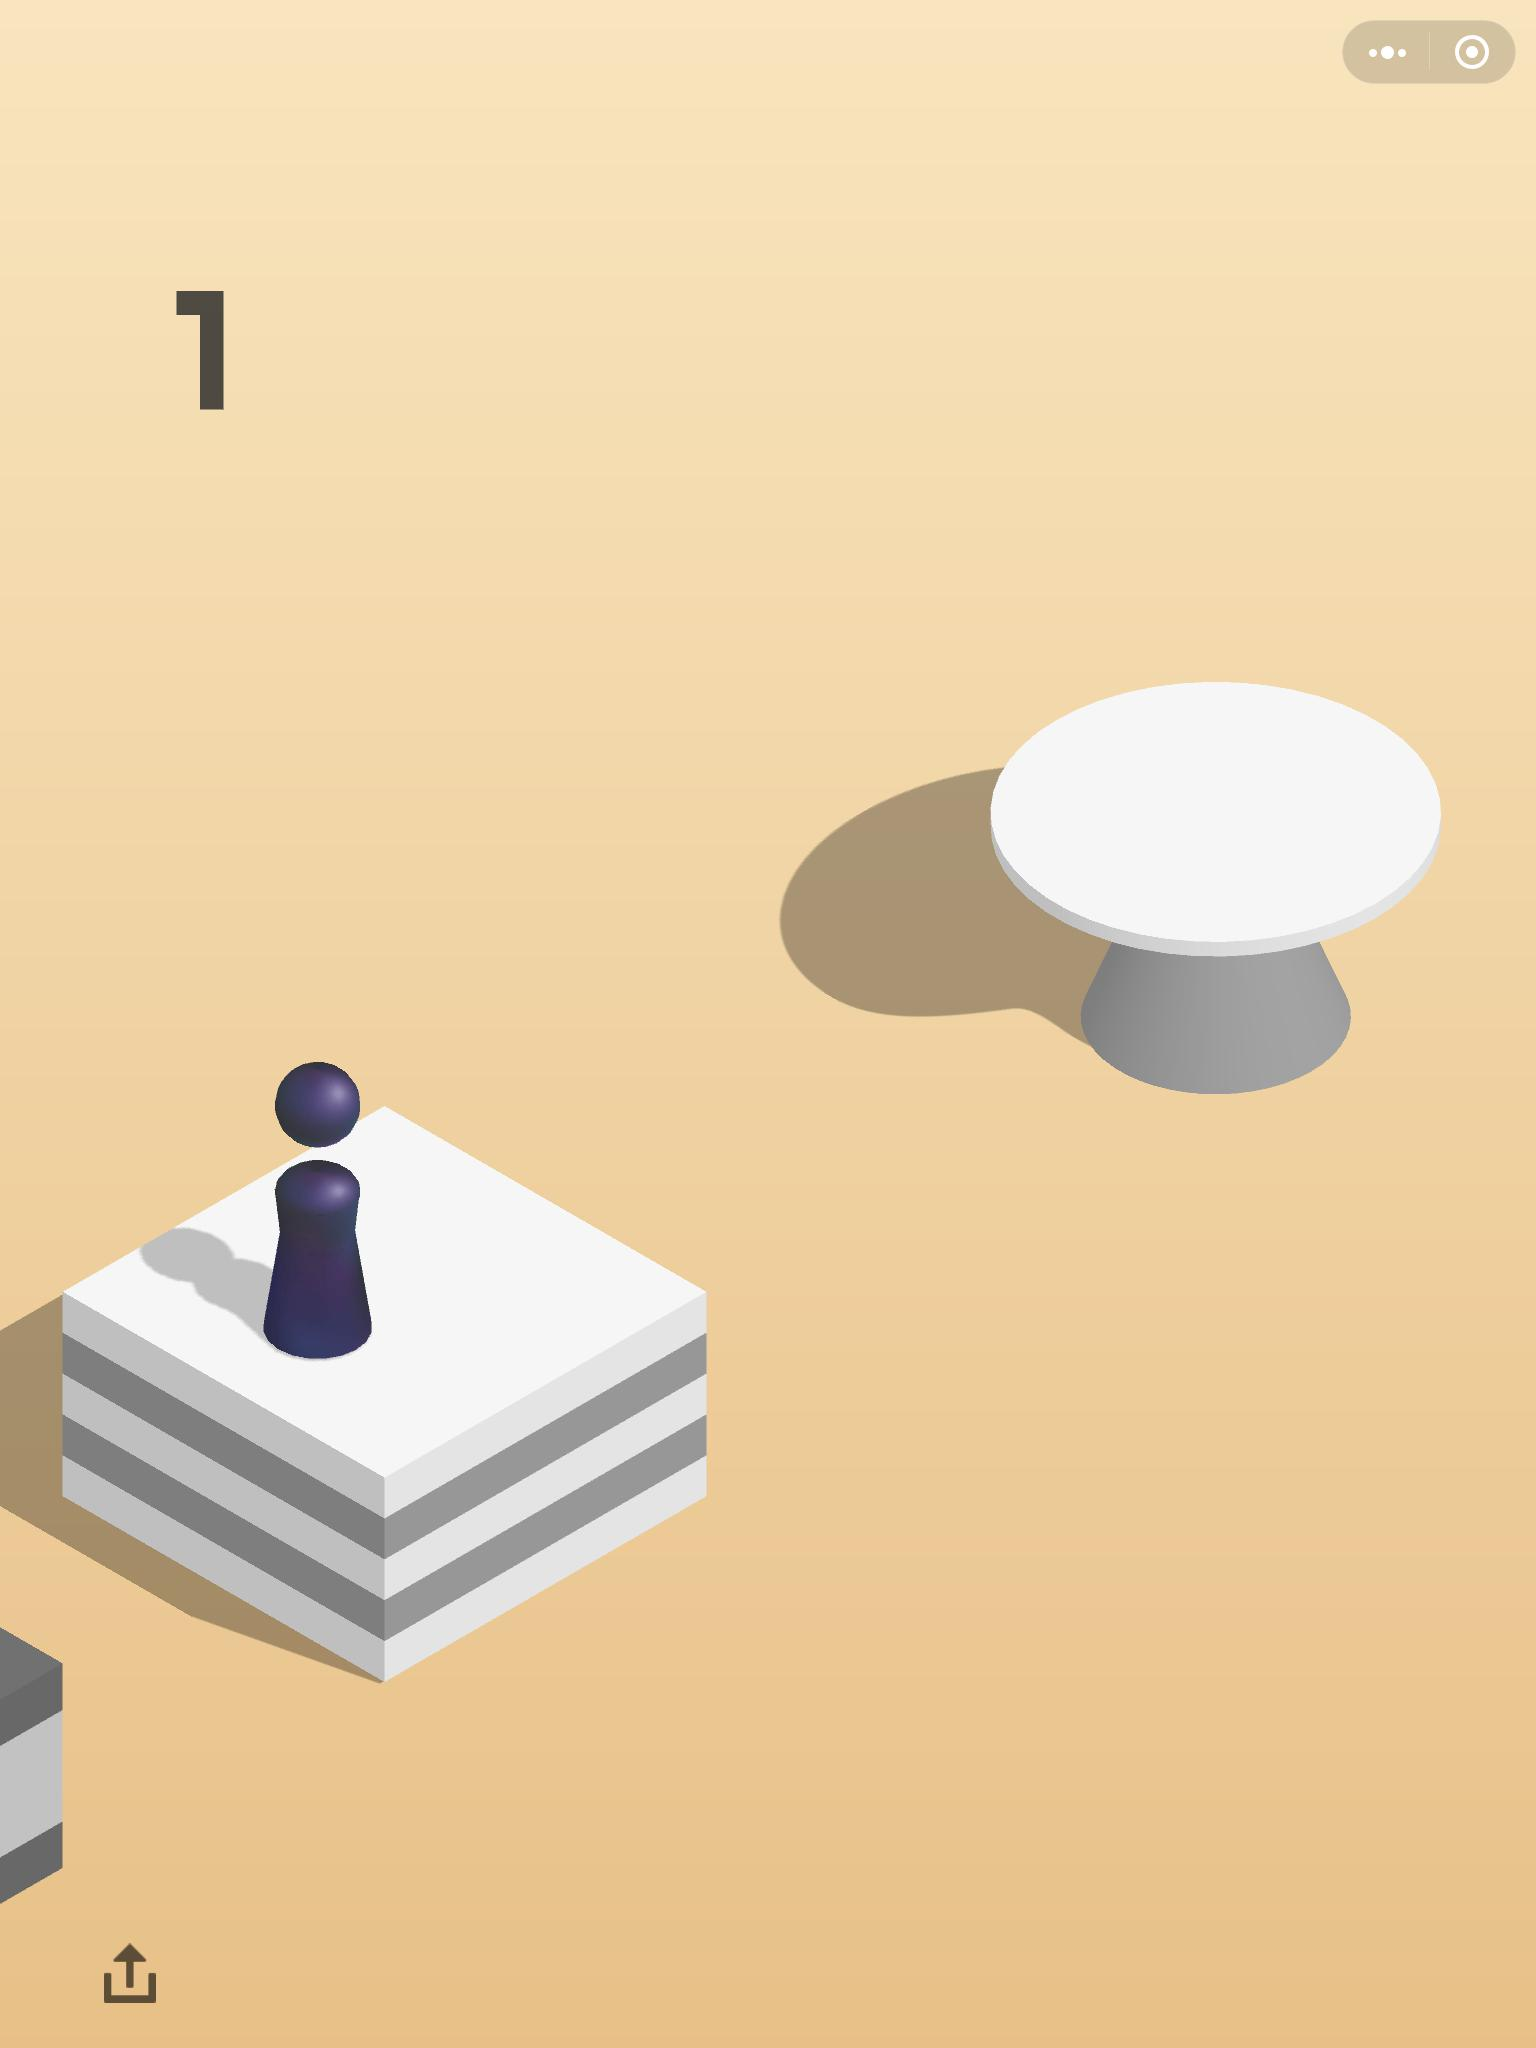c: (983, 643, 1447, 1106)
f: (44, 1093, 747, 1692)
r: (255, 1045, 386, 1367)
